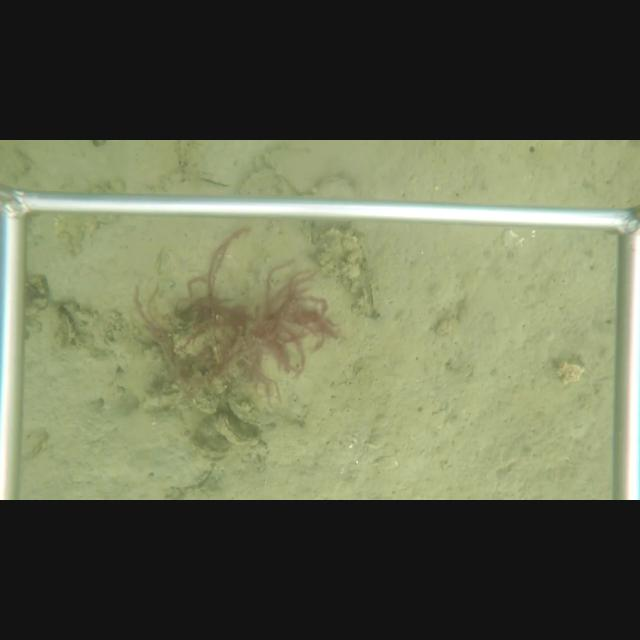Oyster-Closed: (263, 146, 319, 192), (236, 168, 298, 195), (217, 411, 256, 445), (313, 177, 360, 198), (363, 259, 378, 323)
